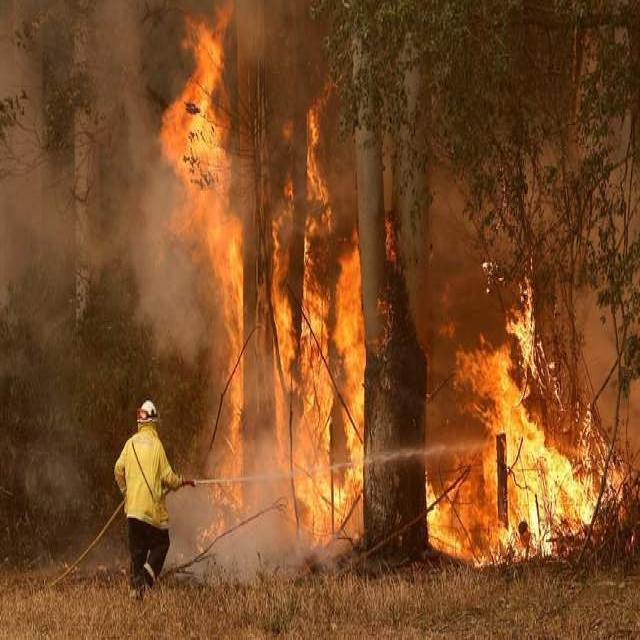Fire: (456, 335, 593, 556), (158, 19, 242, 346), (272, 274, 331, 504), (332, 253, 366, 490)
